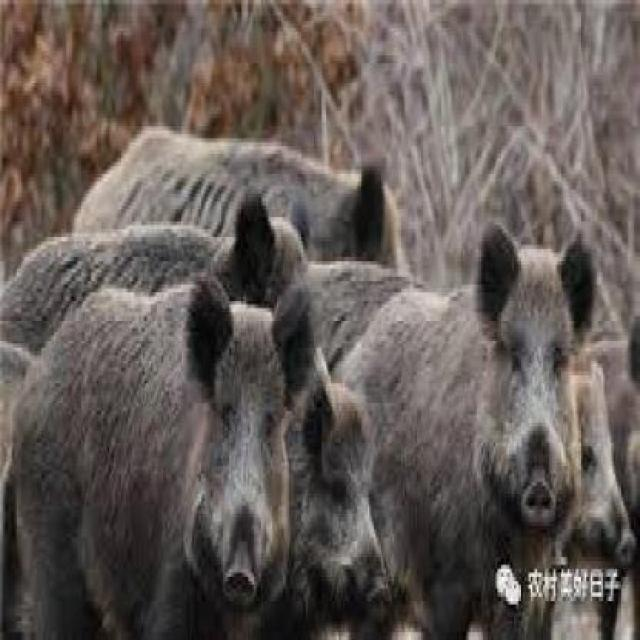wildboar: (0, 194, 320, 640), (323, 220, 605, 640), (58, 110, 413, 442), (7, 264, 320, 640), (151, 335, 395, 640), (449, 312, 640, 640)
